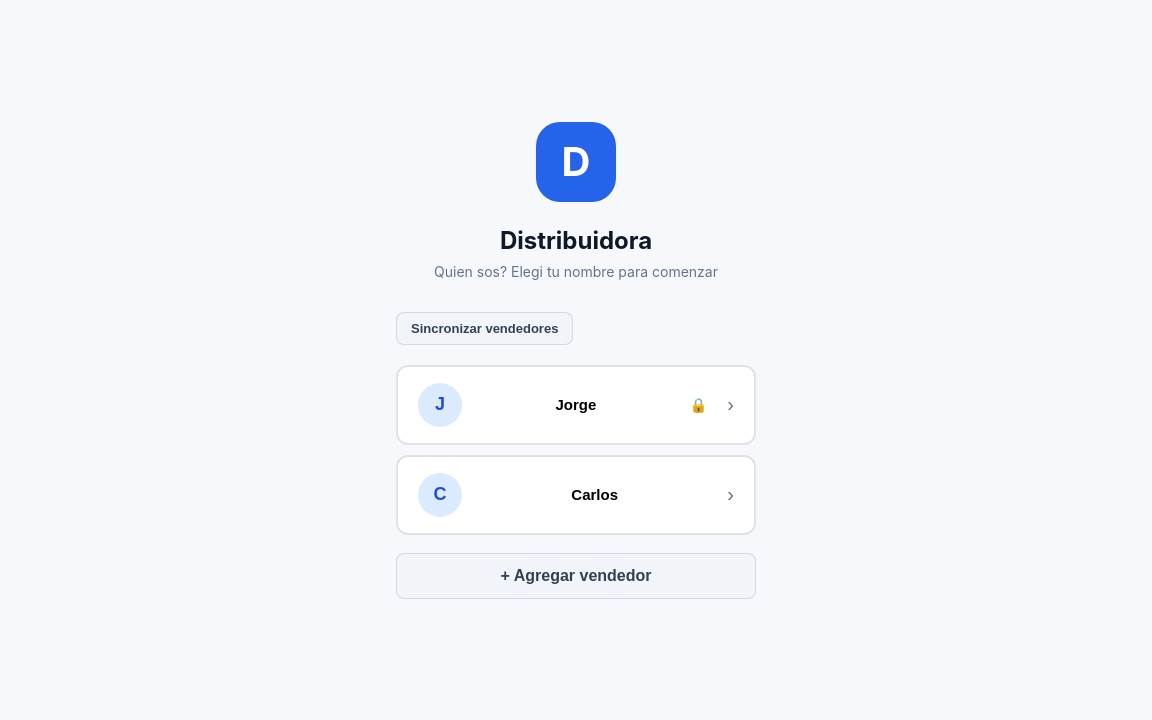
Test: AC-SEC-4 S-COM-13 ingreso 100 % online › AC-SEC-4 S-COM-13 errores del servidor al consultar se muestran y no se entra
The width and height of the screenshot is (1152, 720).
Click the button "C Carlos ›" at (576,494), box [396,454,756,534]
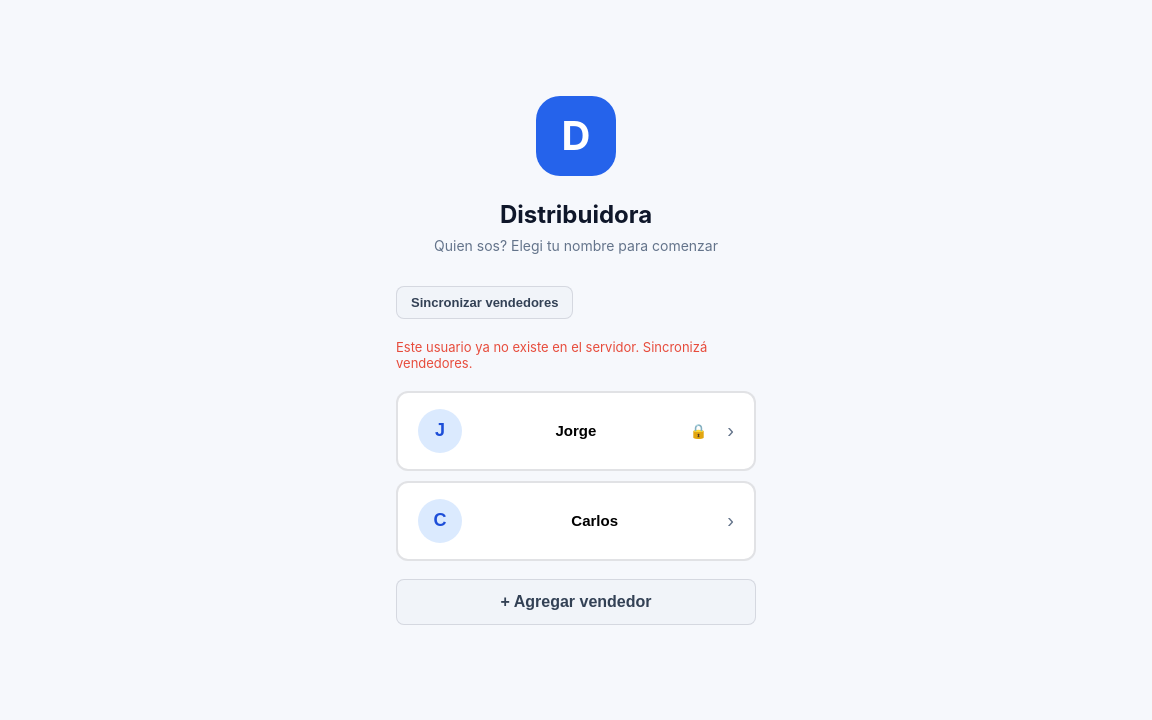
Check: the text with test id "ingreso-error" shows "ya no existe", box [396,338,707,370]
